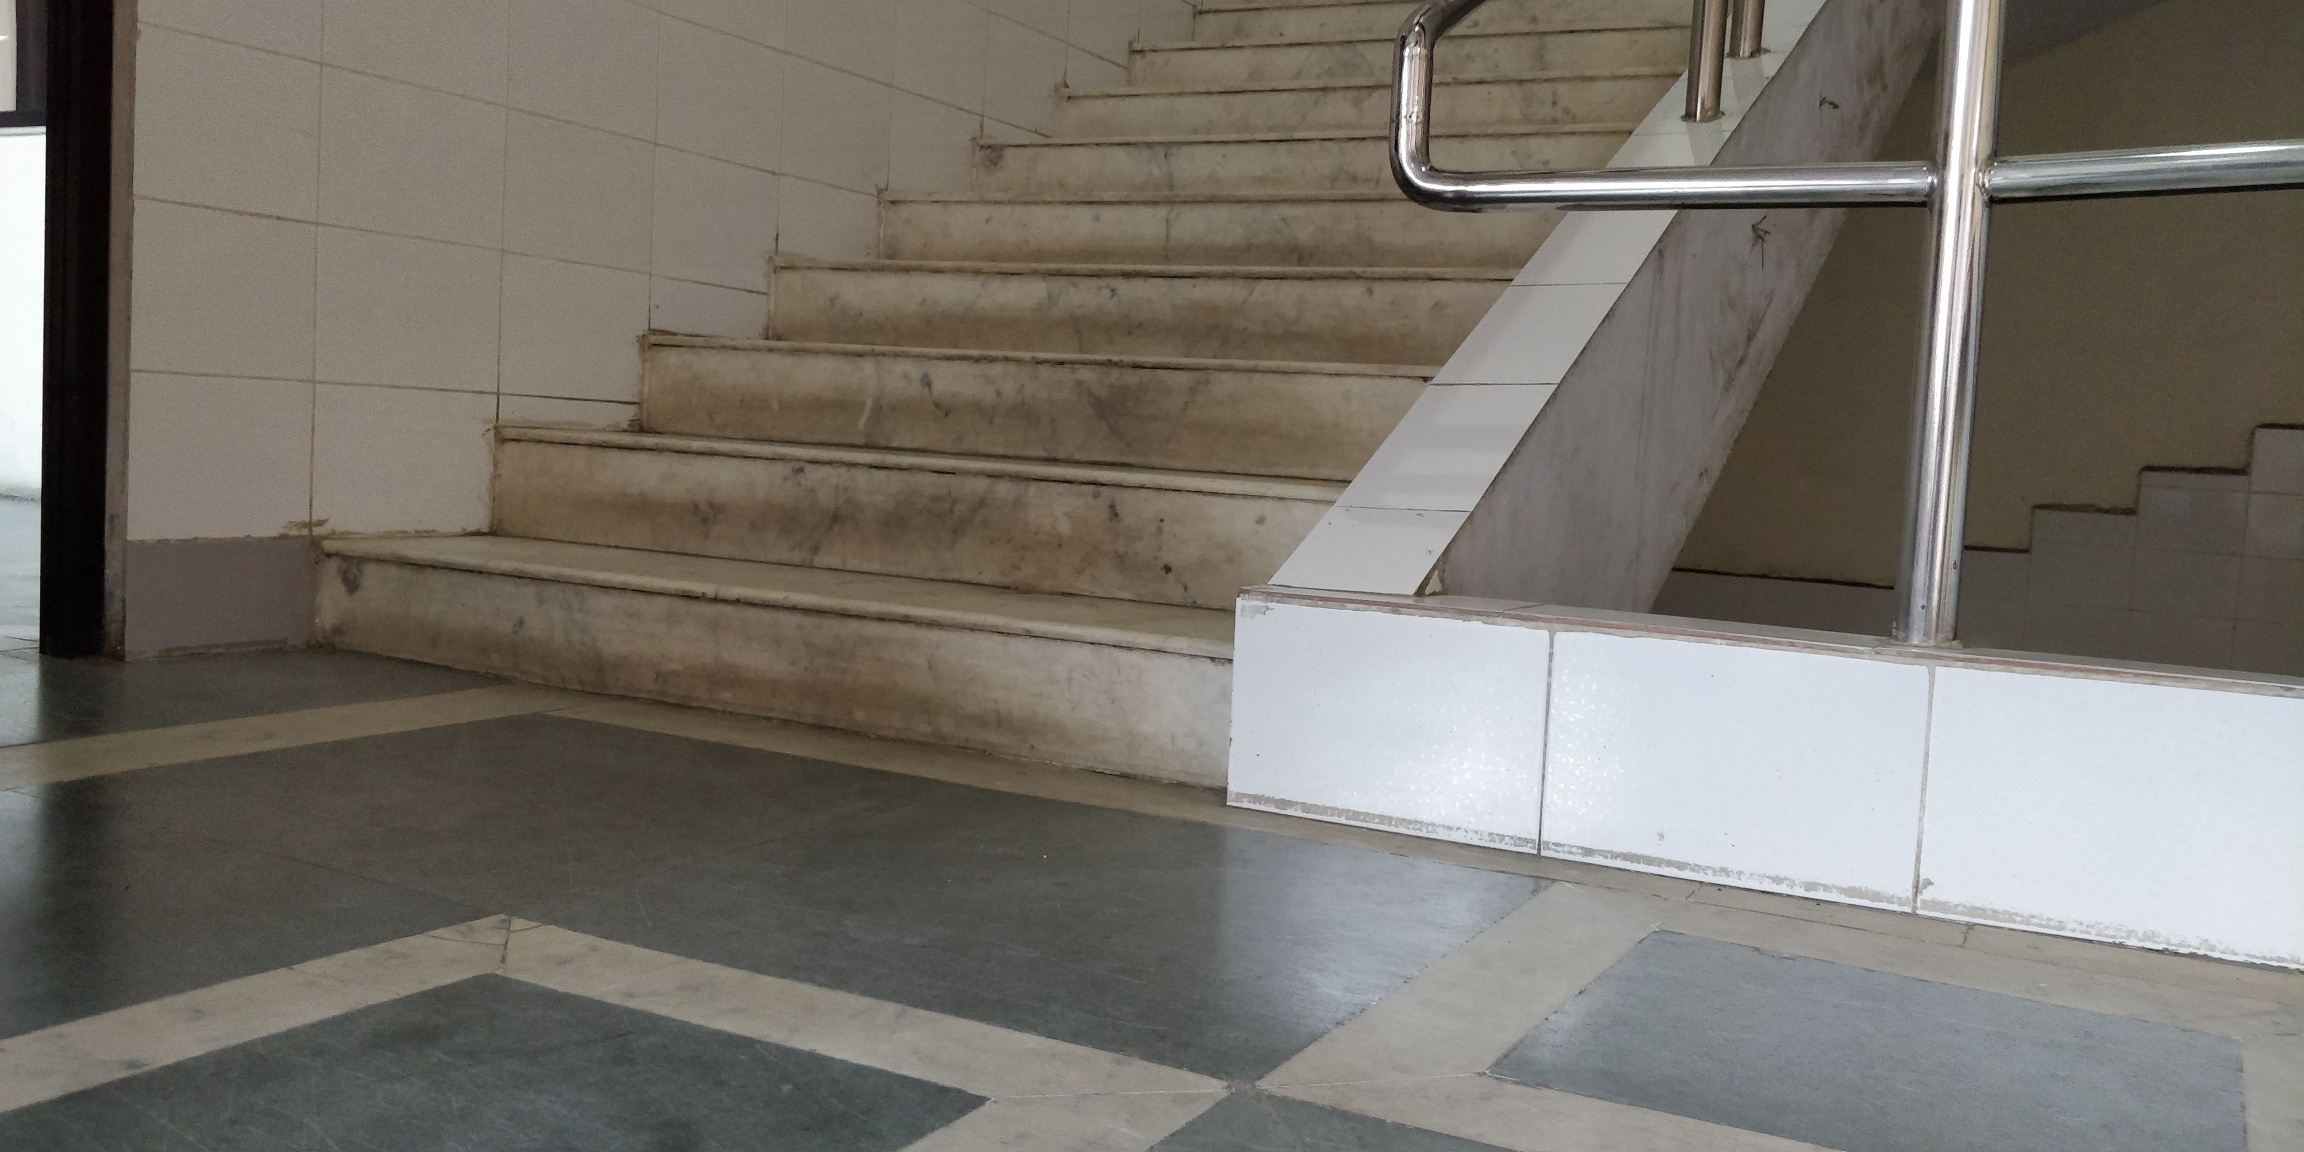stairs_up: (245, 9, 1677, 770)
